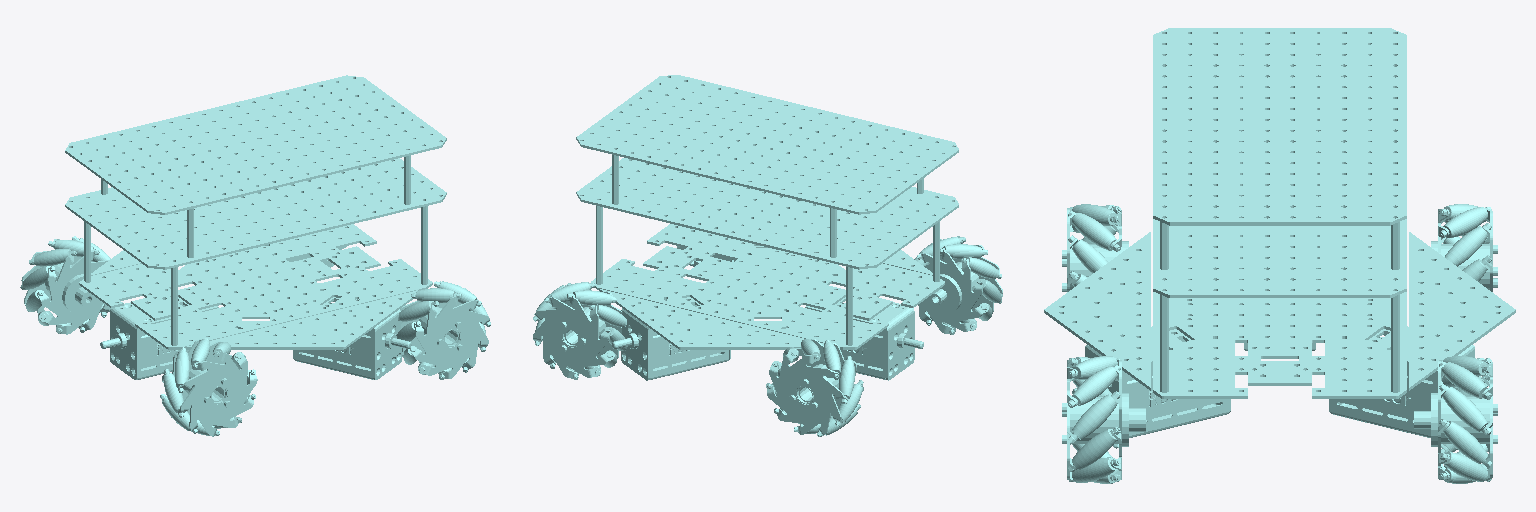
URDF robot description (zoo_four_wheel_omni):
<?xml version="1.0" encoding="utf-8"?>
<!-- This URDF was automatically created by SolidWorks to URDF Exporter! Originally created by [author] ([email redacted]) 
     Commit Version: 1.6.0-4-g7f85cfe  Build Version: 1.6.7995.38578
     For more information, please see http://wiki.ros.org/sw_urdf_exporter -->
<robot
  name="zoo_four_wheel_omni">

  <!-- <link name="dummy">

  </link>
  <joint name="dummy_joint" type="fixed">
     <parent link="base_link"/>
     <child link="dummy"/>
   </joint> -->
  <link
    name="base_link">
    <inertial>
      <origin
        xyz="0.000222119934496334 -1.24783036274523E-16 0.00130083441525661"
        rpy="0 0 0" />
      <mass
        value="0.69407789899475" />
      <inertia
        ixx="0.00399830202983214"
        ixy="-6.20275988896939E-08"
        ixz="6.08080155241355E-06"
        iyy="0.00867954202643231"
        iyz="1.57713684072027E-18"
        izz="0.0109382589786321" />
    </inertial>
    <visual>
      <origin
        xyz="0 0 0"
        rpy="0 0 0" />
      <geometry>
        <mesh
          filename="package://zoo_description/meshes/zoo_four_wheel_omni/base_link.STL" />
      </geometry>
      <material
        name="">
        <color
          rgba="0.752941176470588 1 1 1" />
      </material>
    </visual>
    <collision>
      <origin
        xyz="0 0 0"
        rpy="0 0 0" />
      <geometry>
        <mesh
          filename="package://zoo_description/meshes/zoo_four_wheel_omni/base_link.STL" />
      </geometry>
    </collision>
  </link>
  <link
    name="lf_Link">
    <inertial>
      <origin
        xyz="-3.42428863042699E-12 -0.0173603044619073 9.63778848395158E-11"
        rpy="0 0 0" />
      <mass
        value="0.0533876268663049" />
      <inertia
        ixx="2.30289770319338E-05"
        ixy="8.39141609264443E-14"
        ixz="-1.37796087238049E-12"
        iyy="3.5509394027796E-05"
        iyz="4.03408482052656E-14"
        izz="2.30289788008521E-05" />
    </inertial>
    <visual>
      <origin
        xyz="0 0 0"
        rpy="0 0 0" />
      <geometry>
        <mesh
          filename="package://zoo_description/meshes/zoo_four_wheel_omni/lf_Link.STL" />
      </geometry>
      <material
        name="">
        <color
          rgba="0.752941176470588 1 1 1" />
      </material>
    </visual>
    <collision>
      <origin
        xyz="0 0 0"
        rpy="0 0 0" />
      <geometry>
        <mesh
          filename="package://zoo_description/meshes/zoo_four_wheel_omni/lf_Link.STL" />
      </geometry>
    </collision>
  </link>
  <joint
    name="lf_joint"
    type="continuous">
    <origin
      xyz="0.105 0.1245 -0.0201"
      rpy="0 0 0" />
    <parent
      link="base_link" />
    <child
      link="lf_Link" />
    <axis
      xyz="0 -1 0" />
  </joint>
  <link
    name="rf_Link">
    <inertial>
      <origin
        xyz="-2.23451812608744E-12 0.0176579411617881 -8.57229530415449E-11"
        rpy="0 0 0" />
      <mass
        value="0.0541357207291112" />
      <inertia
        ixx="2.34733556231295E-05"
        ixy="1.30666926182078E-13"
        ixz="-5.45547543036998E-13"
        iyy="3.55485333962485E-05"
        iyz="2.3421795755726E-13"
        izz="2.34733574299834E-05" />
    </inertial>
    <visual>
      <origin
        xyz="0 0 0"
        rpy="0 0 0" />
      <geometry>
        <mesh
          filename="package://zoo_description/meshes/zoo_four_wheel_omni/rf_Link.STL" />
      </geometry>
      <material
        name="">
        <color
          rgba="0.752941176470588 1 1 1" />
      </material>
    </visual>
    <collision>
      <origin
        xyz="0 0 0"
        rpy="0 0 0" />
      <geometry>
        <mesh
          filename="package://zoo_description/meshes/zoo_four_wheel_omni/rf_Link.STL" />
      </geometry>
    </collision>
  </link>
  <joint
    name="rf_joint"
    type="continuous">
    <origin
      xyz="0.105 -0.1245 -0.0201"
      rpy="0 0 0" />
    <parent
      link="base_link" />
    <child
      link="rf_Link" />
    <axis
      xyz="0 -1 0" />
  </joint>
  <link
    name="rb_Link">
    <inertial>
      <origin
        xyz="-7.44934600116487E-11 0.0173603043509661 4.47778307488544E-11"
        rpy="0 0 0" />
      <mass
        value="0.0533876283599677" />
      <inertia
        ixx="2.30289785248253E-05"
        ixy="6.93821993553194E-14"
        ixz="-1.49313685098554E-12"
        iyy="3.55093957681957E-05"
        iyz="6.16245584287056E-14"
        izz="2.30289796681553E-05" />
    </inertial>
    <visual>
      <origin
        xyz="0 0 0"
        rpy="0 0 0" />
      <geometry>
        <mesh
          filename="package://zoo_description/meshes/zoo_four_wheel_omni/rb_Link.STL" />
      </geometry>
      <material
        name="">
        <color
          rgba="0.752941176470588 1 1 1" />
      </material>
    </visual>
    <collision>
      <origin
        xyz="0 0 0"
        rpy="0 0 0" />
      <geometry>
        <mesh
          filename="package://zoo_description/meshes/zoo_four_wheel_omni/rb_Link.STL" />
      </geometry>
    </collision>
  </link>
  <joint
    name="rb_joint"
    type="continuous">
    <origin
      xyz="-0.105 -0.1245 -0.0201"
      rpy="0 0 0" />
    <parent
      link="base_link" />
    <child
      link="rb_Link" />
    <axis
      xyz="0 -1 0" />
  </joint>
  <link
    name="lb_Link">
    <inertial>
      <origin
        xyz="-5.16781895054663E-11 -0.0176579411516626 6.66795334225423E-11"
        rpy="0 0 0" />
      <mass
        value="0.0541357207048355" />
      <inertia
        ixx="2.34733560131835E-05"
        ixy="-2.64938429481374E-13"
        ixz="-6.34168718664136E-13"
        iyy="3.55485333771659E-05"
        iyz="1.02044250161333E-13"
        izz="2.34733570152808E-05" />
    </inertial>
    <visual>
      <origin
        xyz="0 0 0"
        rpy="0 0 0" />
      <geometry>
        <mesh
          filename="package://zoo_description/meshes/zoo_four_wheel_omni/lb_Link.STL" />
      </geometry>
      <material
        name="">
        <color
          rgba="0.752941176470588 1 1 1" />
      </material>
    </visual>
    <collision>
      <origin
        xyz="0 0 0"
        rpy="0 0 0" />
      <geometry>
        <mesh
          filename="package://zoo_description/meshes/zoo_four_wheel_omni/lb_Link.STL" />
      </geometry>
    </collision>
  </link>
  <joint
    name="lb_joint"
    type="continuous">
    <origin
      xyz="-0.105 0.1245 -0.0201"
      rpy="0 0 0" />
    <parent
      link="base_link" />
    <child
      link="lb_Link" />
    <axis
      xyz="0 -1 0" />
  </joint>
</robot>

--- Render facts (derived) ---
Views: 3 orthographic renders of the robot side by side, from view 1: azimuth 30°, elevation 25°; view 2: azimuth 150°, elevation 25°; view 3: azimuth 270°, elevation 25°.
Model zoo_four_wheel_omni with 5 links and 4 joints (4 continuous), rooted at base_link, posed every joint at zero.
Links seen in each view (by area): view 1: base_link, rb_Link, rf_Link, lb_Link; view 2: base_link, lb_Link, lf_Link, rb_Link; view 3: base_link, lf_Link, rf_Link, lb_Link, rb_Link.
Boxes of the visible links, x1,y1,x2,y2 form: base_link: [65, 75, 446, 379]; rb_Link: [160, 338, 257, 436]; rf_Link: [396, 281, 490, 379]; lb_Link: [20, 236, 110, 334]; base_link: [576, 75, 958, 380]; lb_Link: [766, 339, 863, 436]; lf_Link: [533, 282, 627, 379]; rb_Link: [914, 236, 1002, 334]; base_link: [1044, 28, 1515, 437]; lf_Link: [1414, 356, 1497, 483]; rf_Link: [1062, 356, 1145, 483]; lb_Link: [1431, 204, 1497, 291]; rb_Link: [1062, 204, 1128, 291].
Bounding box of the posed robot: 0.285 × 0.2753 × 0.1785 m (x, y, z).
Meshes: 5 distinct files referenced, 5 mesh visuals loaded (5 binary STL).
